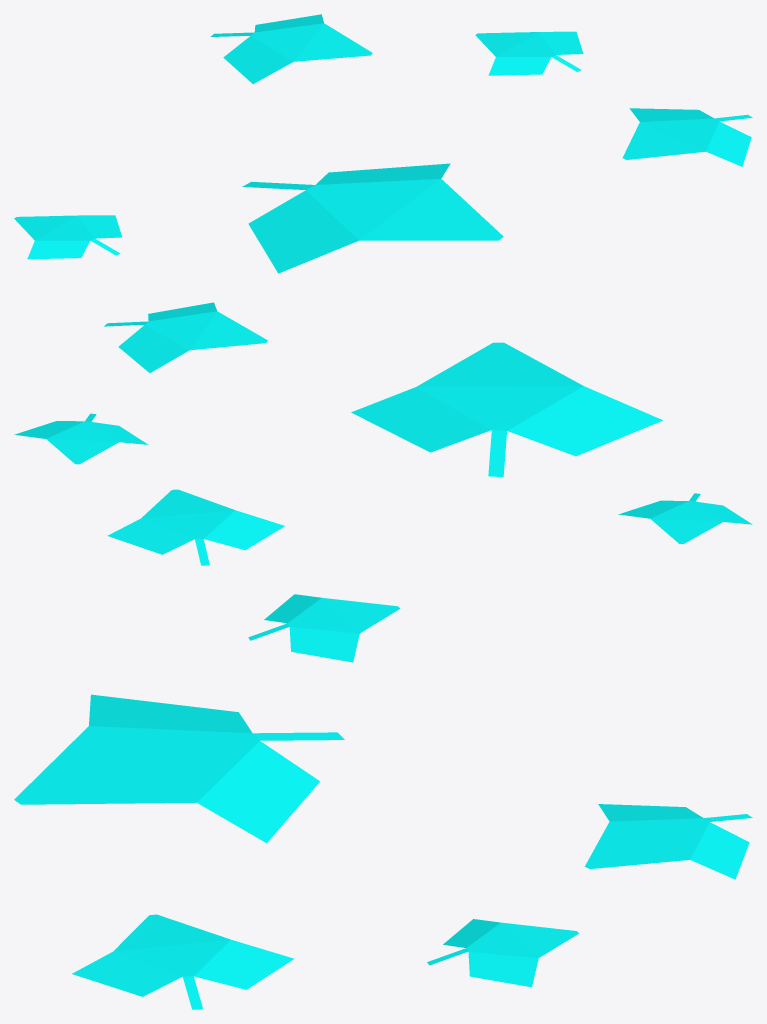
Rendered from LeafPile_3.fbx.
The picture shows the model from 3 angles, top to bottom: view 1: azimuth 30°, elevation 25°; view 2: azimuth 150°, elevation 25°; view 3: azimuth 270°, elevation 25°; orthographic projection. The views are drawn at different scales.
Visible parts, largest first — view 1: LeafPile_3; view 2: LeafPile_3; view 3: LeafPile_3.
Part boxes in pixels (box(x1,y1,x2,y2)): LeafPile_3: box(14, 14, 752, 273); LeafPile_3: box(14, 302, 752, 565); LeafPile_3: box(14, 594, 752, 1009).
Size of the model in its own units: 248 by 6.04 by 184.
